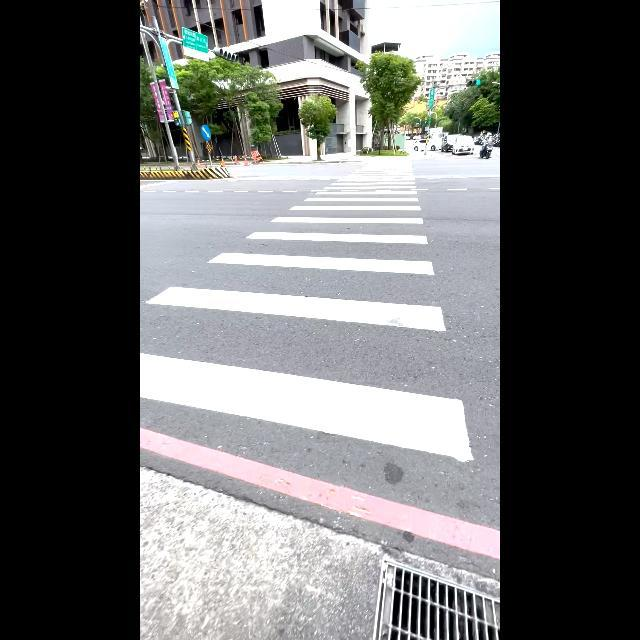sidewalk: (140, 174, 487, 572)
